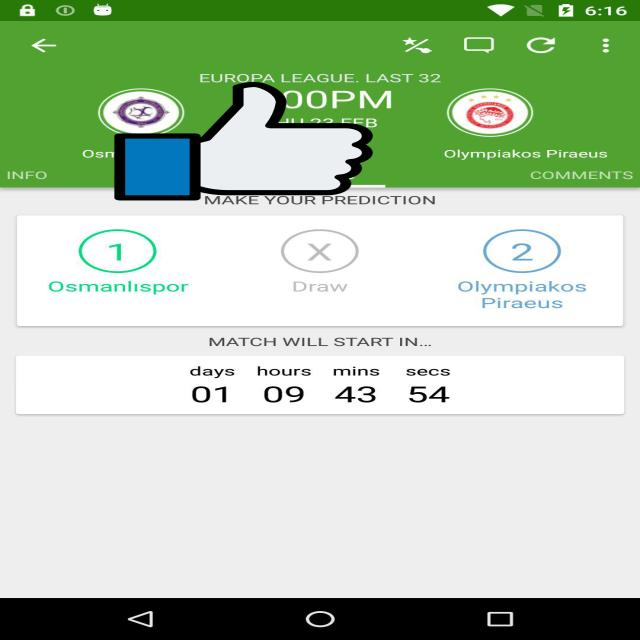privacy zuckering: (114, 79, 373, 203)
